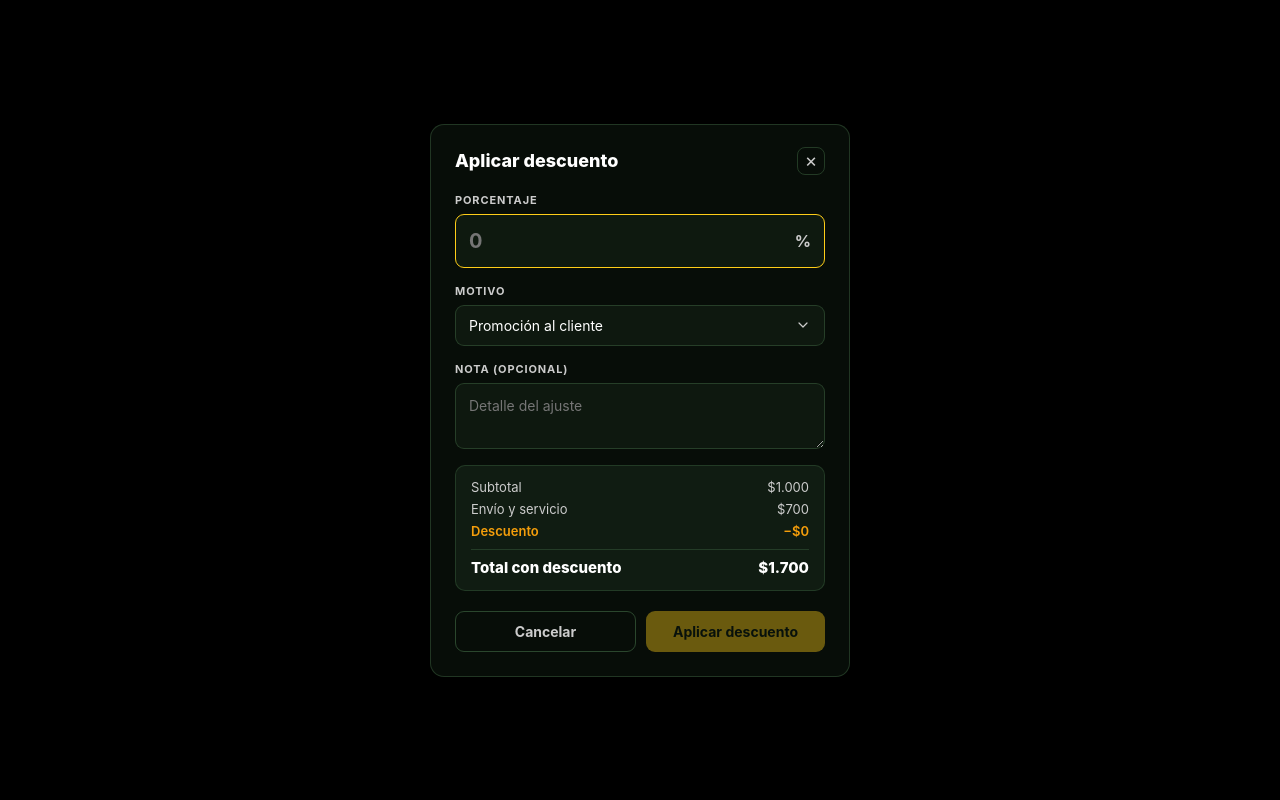
Test case: validación del porcentaje › un porcentaje fuera de rango deshabilita el submit y avisa
In the number field labelled "Porcentaje": (640, 240) [455,214,825,268], type "150"
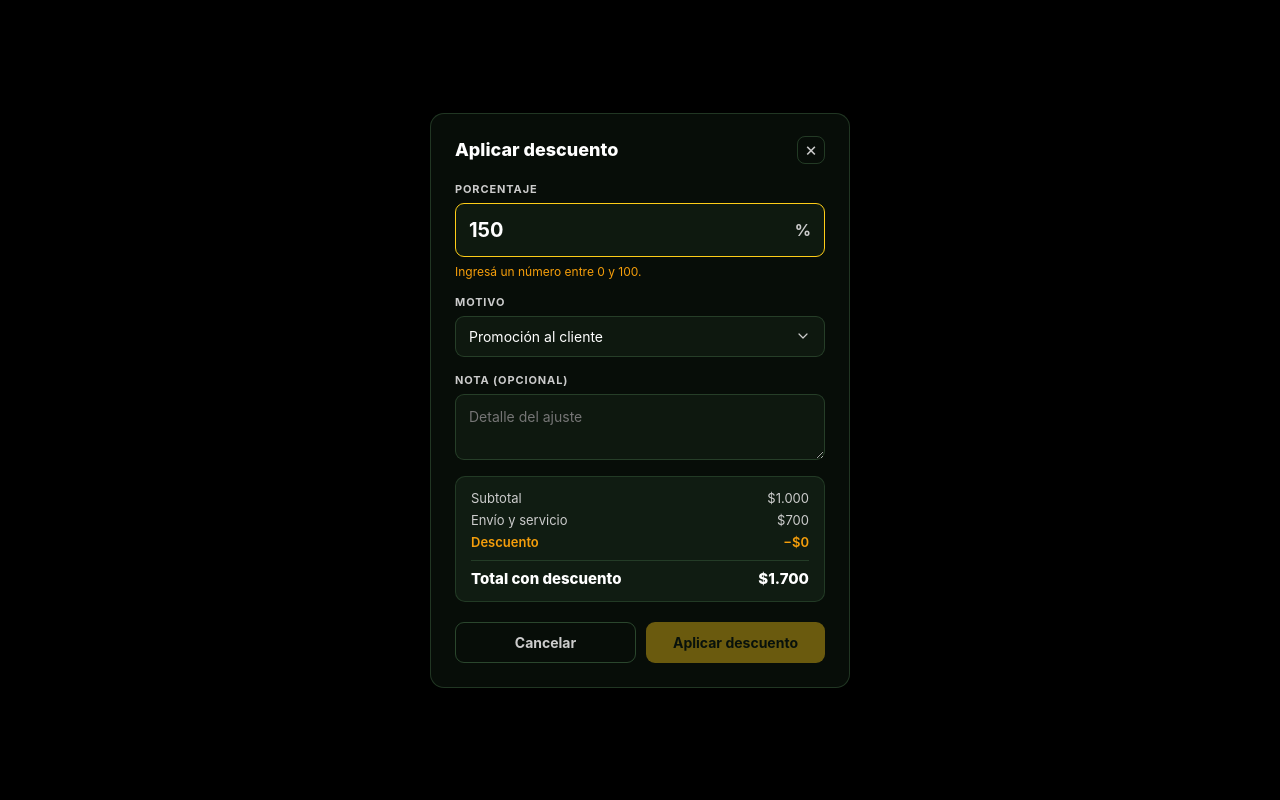
Expected: the button "Aplicar descuento" is disabled, [646,622,825,662]
Now the text "Ingresá un número entre 0 y 100." is shown, box [455,264,642,278]
